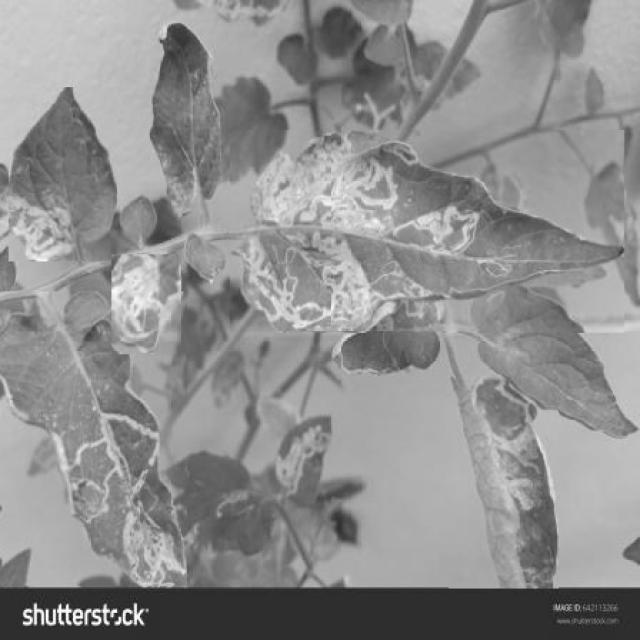Leaf Miner: (230, 130, 624, 333), (0, 291, 187, 586), (448, 374, 558, 589), (8, 87, 118, 262), (111, 255, 180, 354)
